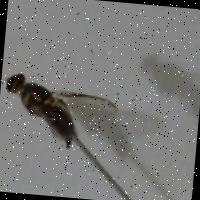Oriental-fruit-fly: (0, 62, 125, 158)
